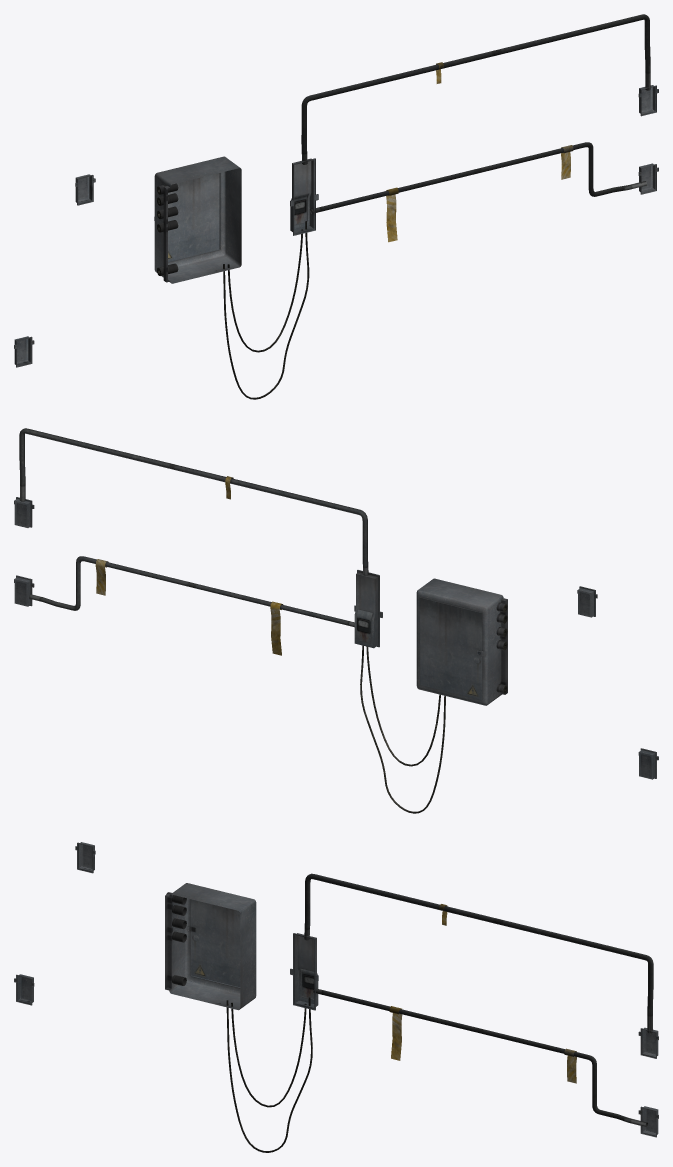
Rendered from FuseBoxElevator.fbx.
3 views of the same model, one above another, from view 1: azimuth 30°, elevation 25°; view 2: azimuth 150°, elevation 25°; view 3: azimuth 330°, elevation 25° (orthographic).
Parts seen in each view (by area): view 1: ElectricalElevator; view 2: ElectricalElevator; view 3: ElectricalElevator.
Part boxes in pixels (<box>): ElectricalElevator: <box>14,14,658,399</box>; ElectricalElevator: <box>14,428,658,813</box>; ElectricalElevator: <box>14,842,658,1152</box>.
Bounding box in the file's own units: 1221 × 529 × 58.23.
Materials: 1 (1 with a texture image).
